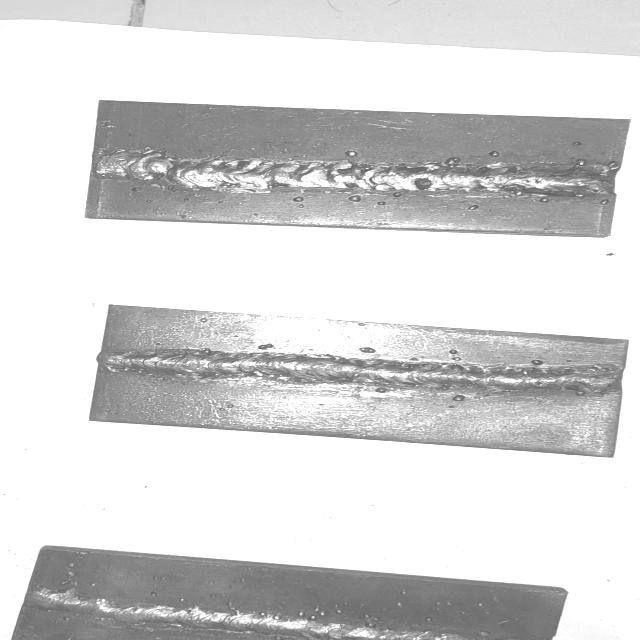Bad Weld: (95, 153, 618, 195)
Defect: (95, 140, 213, 198), (568, 141, 619, 207)
Good Weld: (30, 586, 462, 640), (109, 352, 610, 390)
